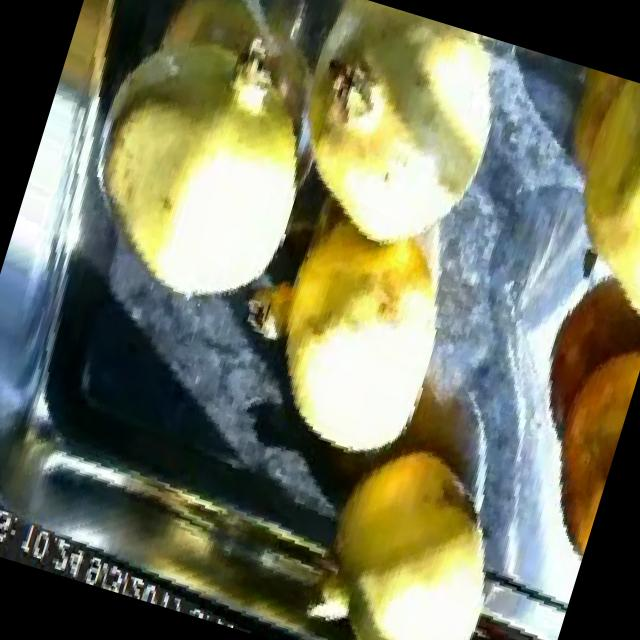fruit: (254, 0, 543, 298), (240, 211, 489, 494), (276, 406, 551, 640), (502, 315, 640, 573)
